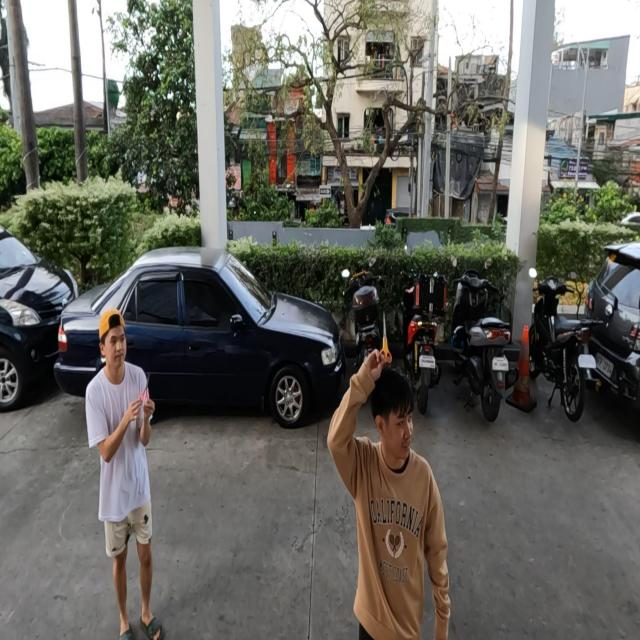scissor: (378, 311, 392, 364), (139, 372, 151, 405)
